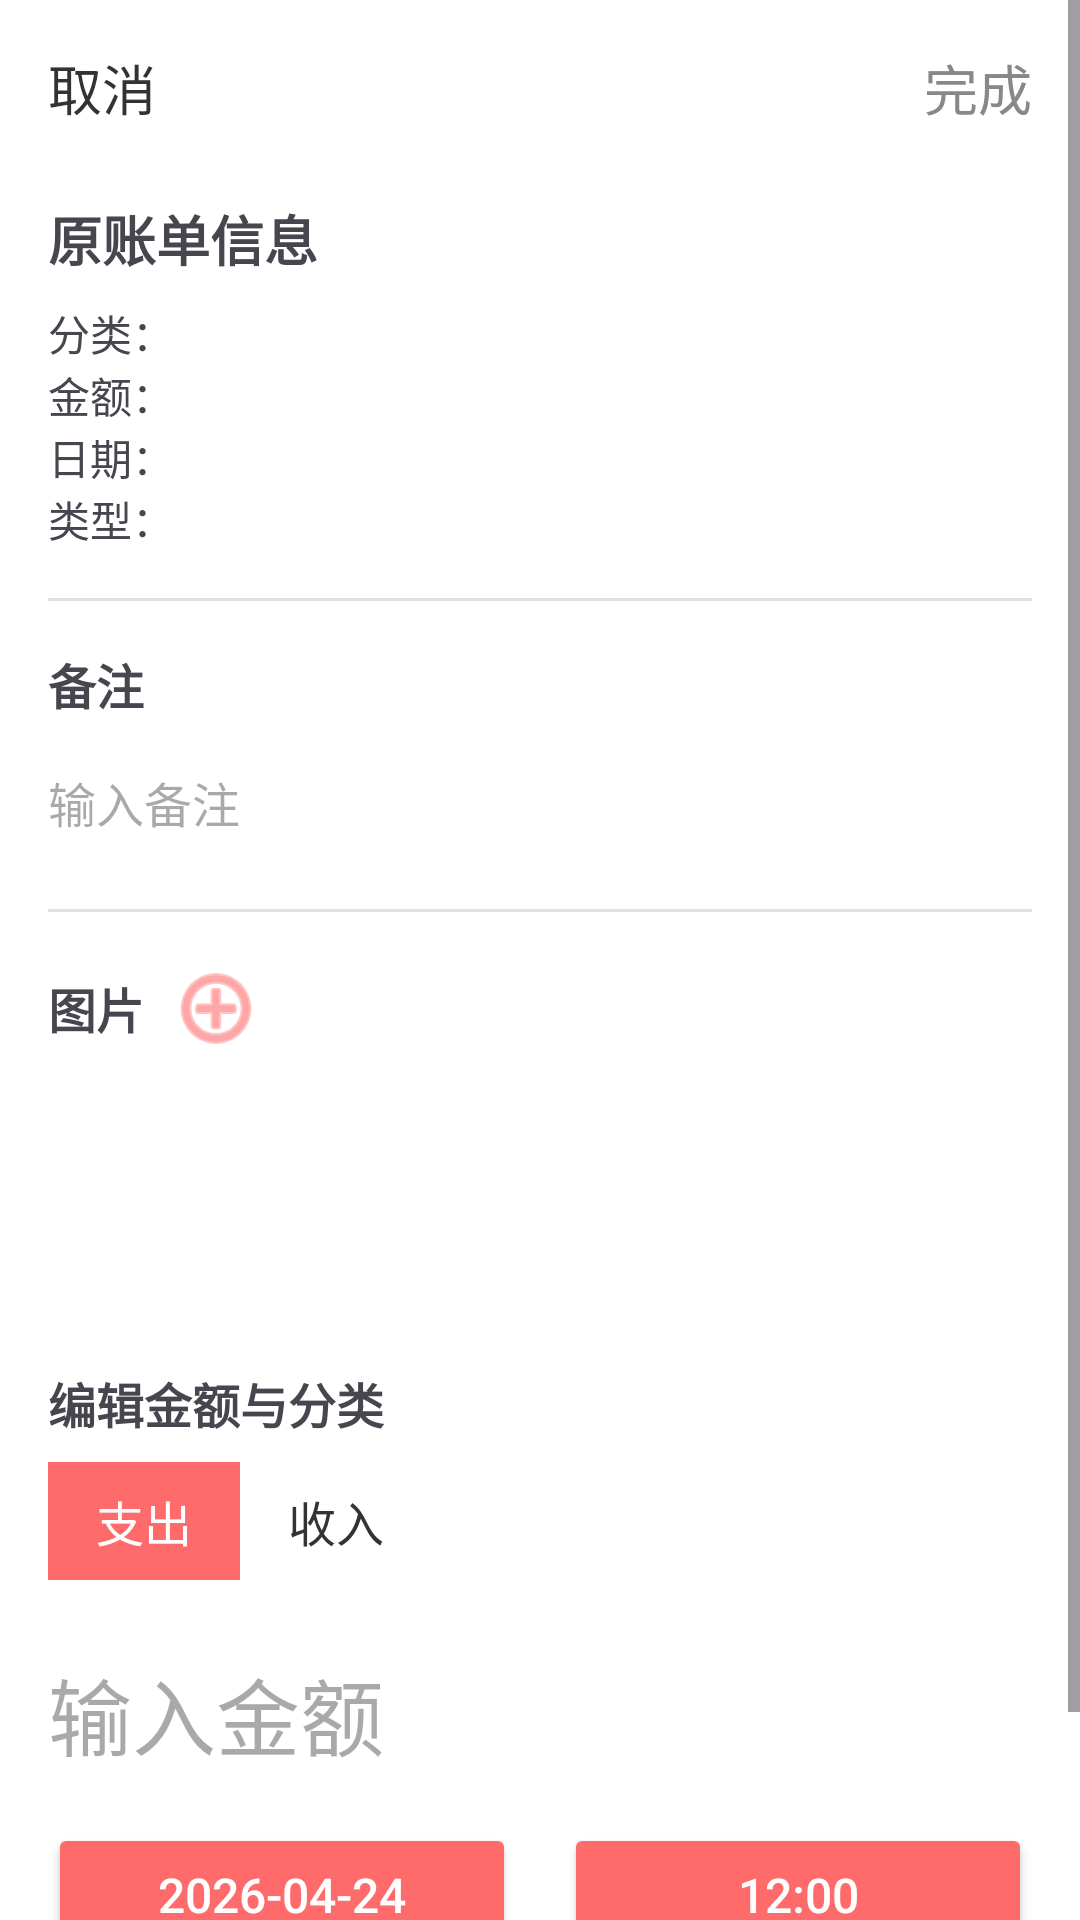

Screen size 1080×1920. Icon name, then its center in pixels as (x=x, y=y):
add: (x=216, y=1008)
